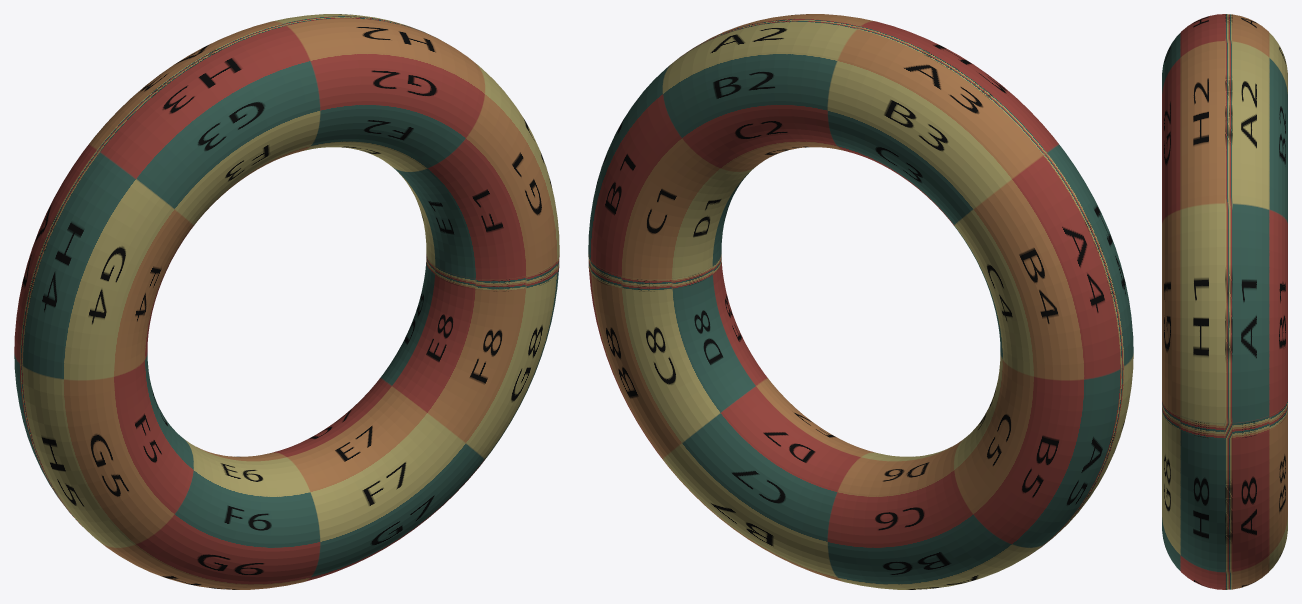
The model's file is texture_torus_R3_r3.glb.
3 views of the same model, side by side, from view 1: azimuth 30°, elevation 25°; view 2: azimuth 150°, elevation 25°; view 3: azimuth 270°, elevation 25° (orthographic). The views are drawn at different scales.
Visible parts, largest first — view 1: world; view 2: world; view 3: world.
Part boxes in pixels (bbox=[...]): world: bbox=[14, 14, 559, 589]; world: bbox=[588, 14, 1133, 589]; world: bbox=[1162, 14, 1287, 589].
Bounding box in the file's own units: 21.33 × 21.33 × 4.66.
1 material, 1 textured.
